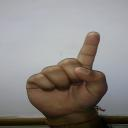hand: (25, 30, 108, 127)
